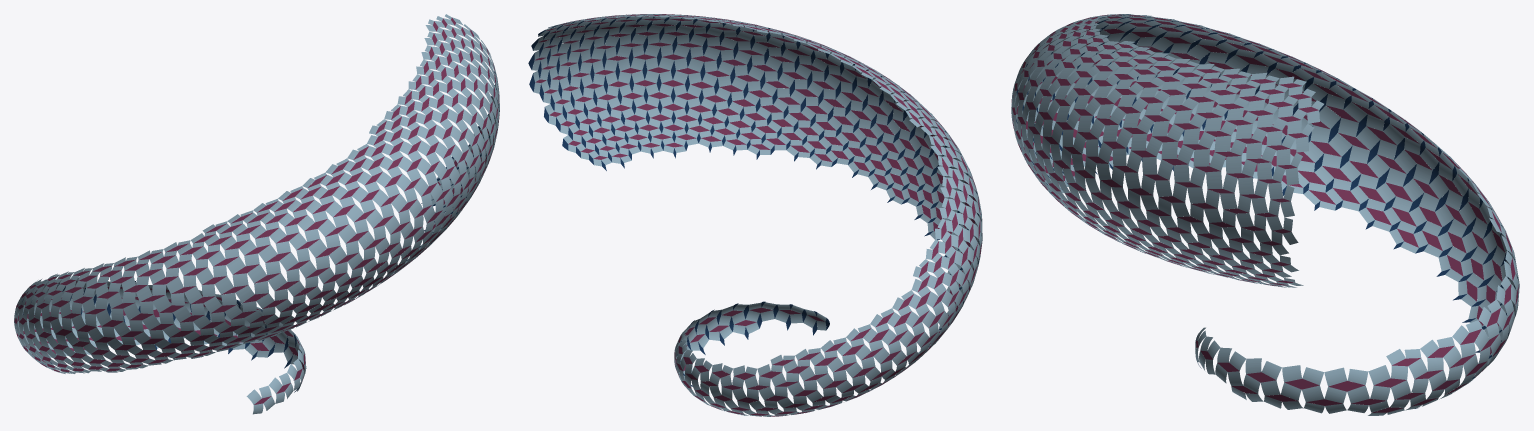
File: old_lconju_arch_design.web.glb
3 views of the same model, side by side, from view 1: azimuth 30°, elevation 25°; view 2: azimuth 150°, elevation 25°; view 3: azimuth 270°, elevation 25° (orthographic). The views are drawn at different scales.
Parts seen in each view (by area): view 1: lmesh_conical_edges, lmesh_vertex_planes, lmesh_panels; view 2: lmesh_conical_edges, lmesh_vertex_planes, lmesh_panels; view 3: lmesh_conical_edges, lmesh_vertex_planes, lmesh_panels.
Boxes of the visible parts, x1,y1,x2,y2 form: lmesh_conical_edges: [14, 14, 499, 414]; lmesh_vertex_planes: [14, 18, 499, 404]; lmesh_panels: [14, 71, 499, 392]; lmesh_conical_edges: [532, 14, 982, 416]; lmesh_vertex_planes: [535, 14, 981, 416]; lmesh_panels: [528, 15, 982, 415]; lmesh_conical_edges: [1011, 14, 1519, 415]; lmesh_vertex_planes: [1011, 14, 1518, 412]; lmesh_panels: [1011, 14, 1519, 408].
Size of the model in its own units: 1.93 by 1.31 by 1.4.
